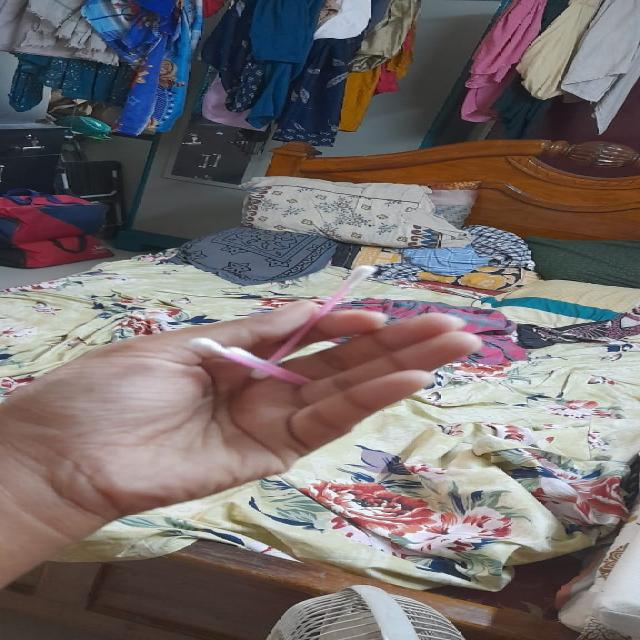Earbud - Non Recyclable: (188, 264, 381, 386)
